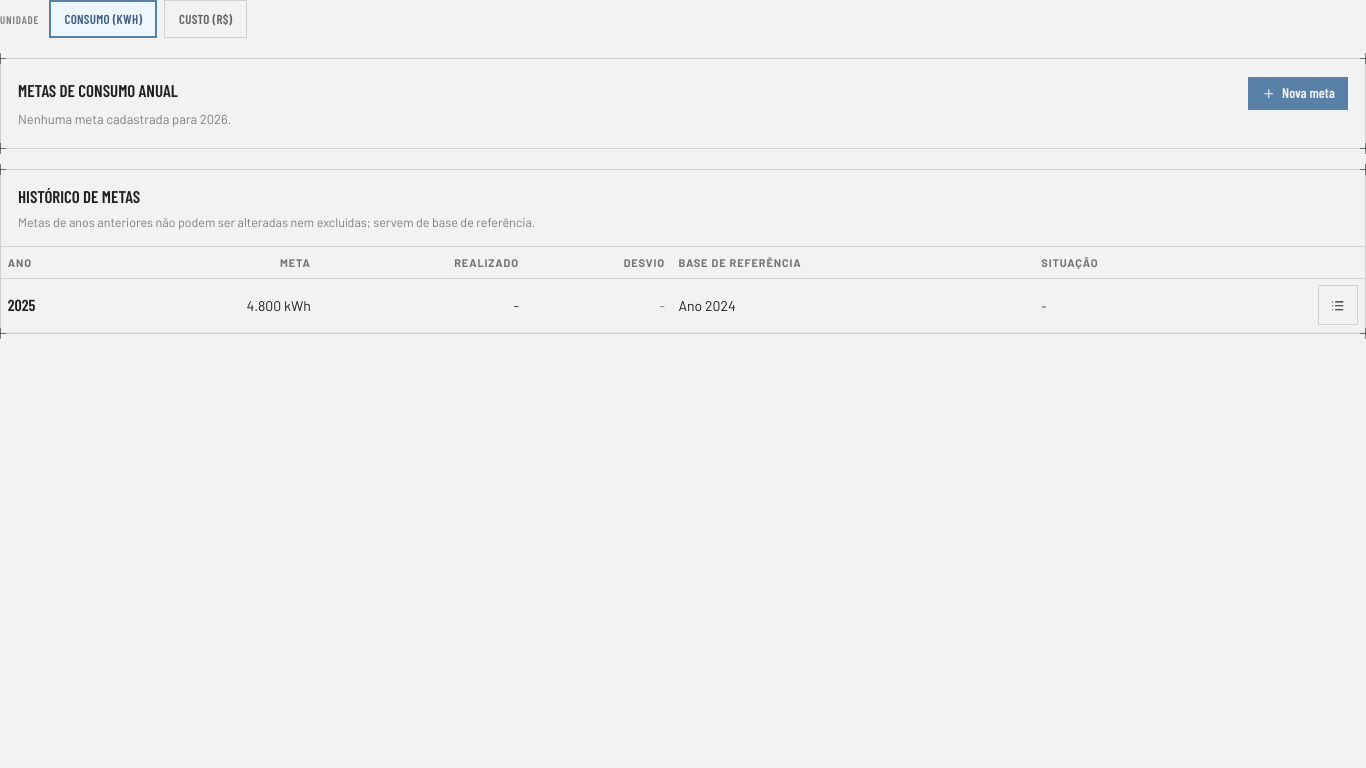
Scenario: GoalsPage — usar como referência › sem o acompanhamento, abre com a referência e os meses vazios
What coordinates should you click on to do the following:
click the button named "Usar a meta de 2025 como referência"
I would click on:
 (1338, 305)
Its box is [1318,285,1358,325].
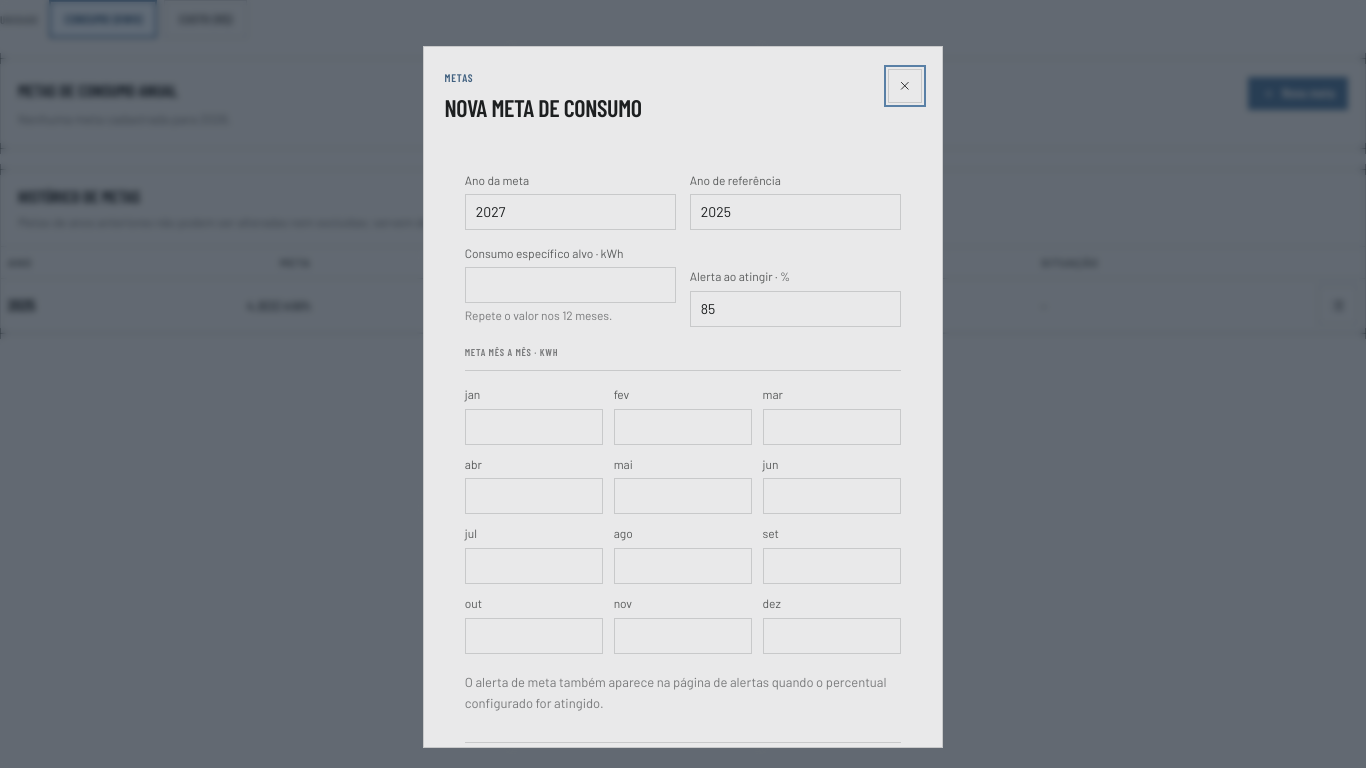
Check: the number field labelled "Ano de referência" holds "2025", box [690,194,901,230]
Check: the number field labelled "jan" is not empty, box [465,408,604,444]
